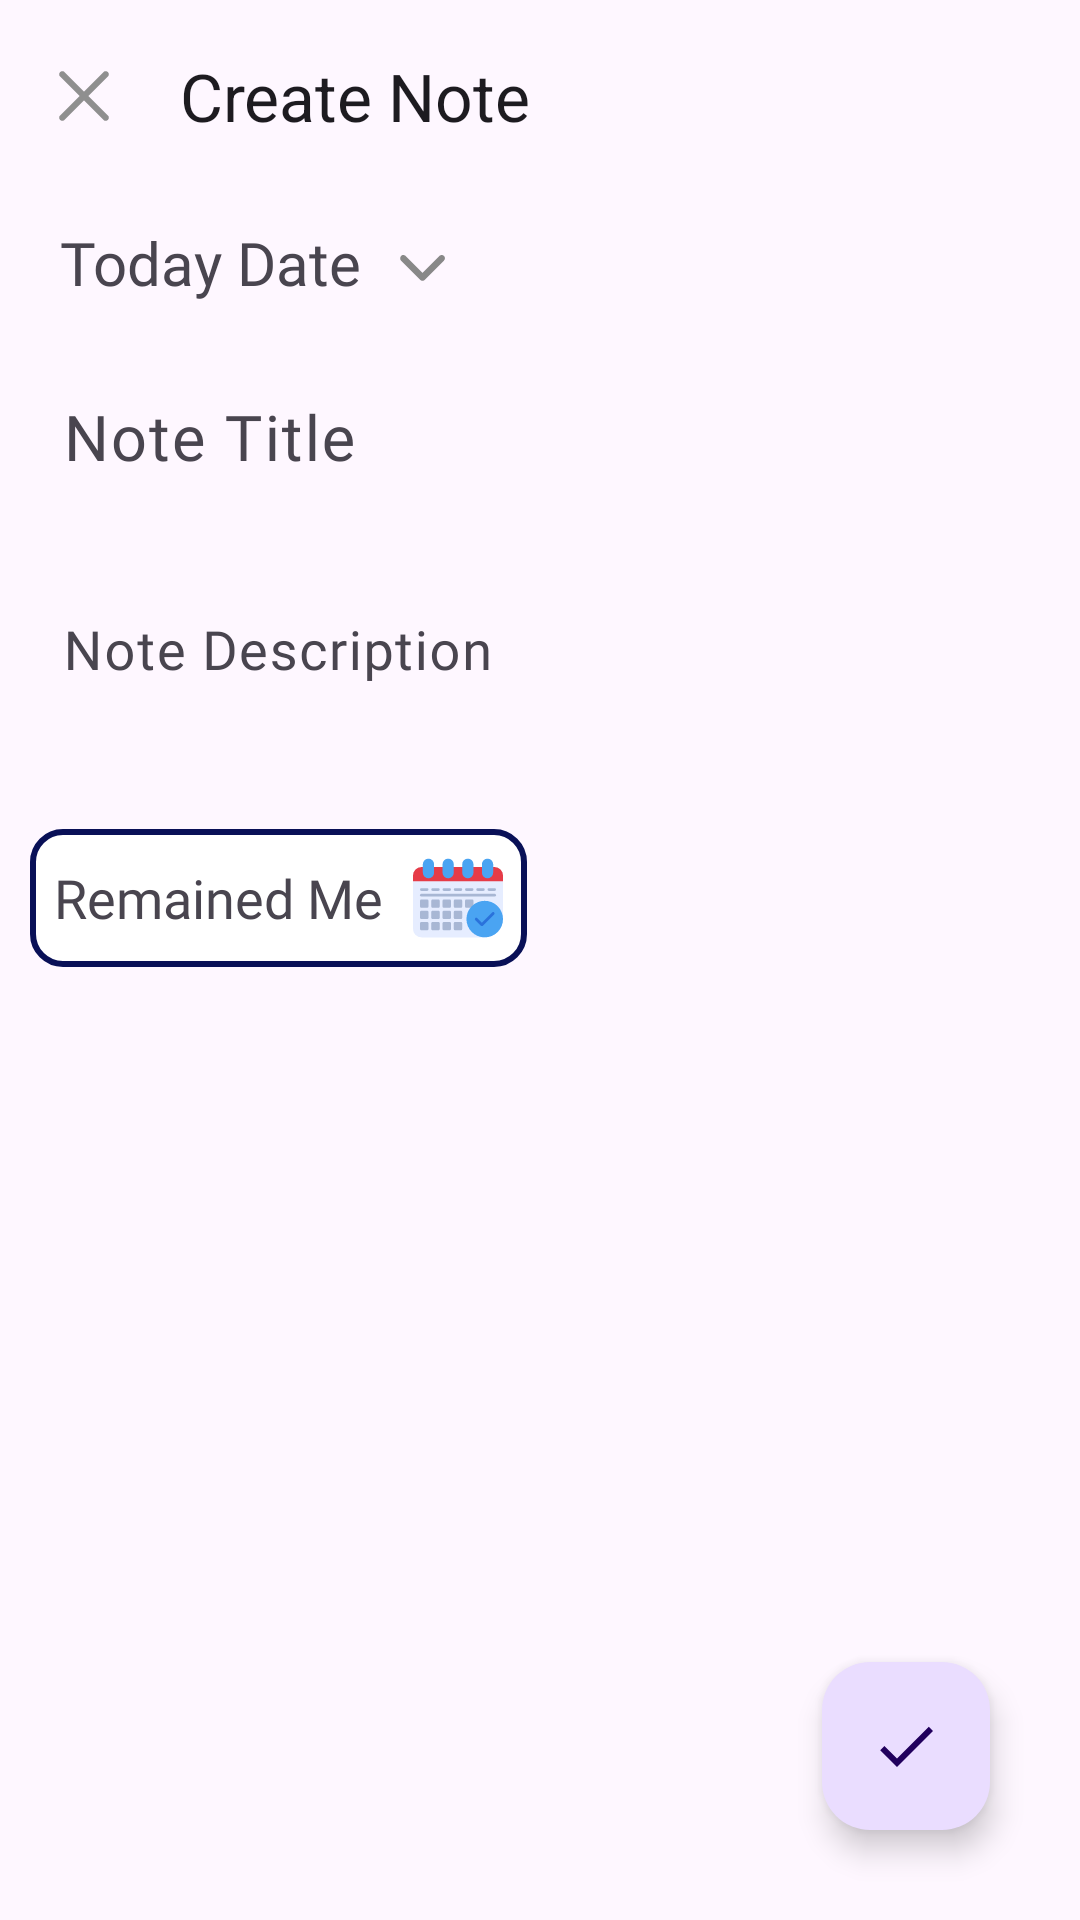

Locate icon controls on the screen. Image size 1080*1920, boxes as [x1,y1,x2,y2].
done: [822,1662,990,1830]
